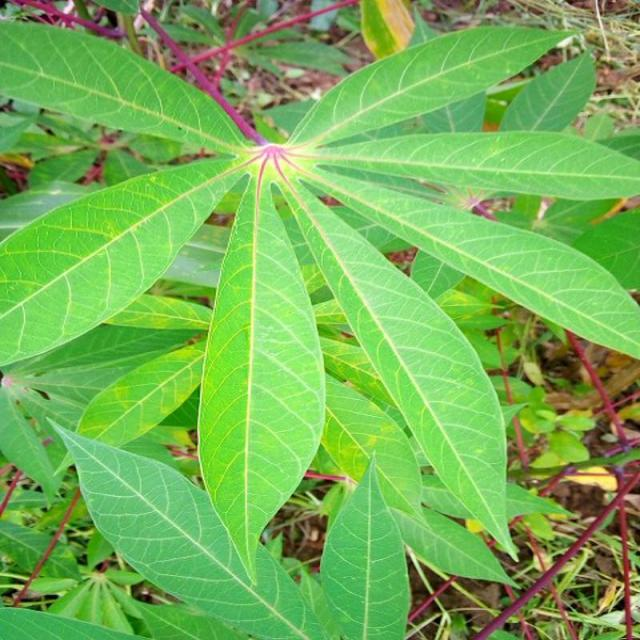cassava leaf: (0, 9, 638, 635), (196, 158, 326, 584)
